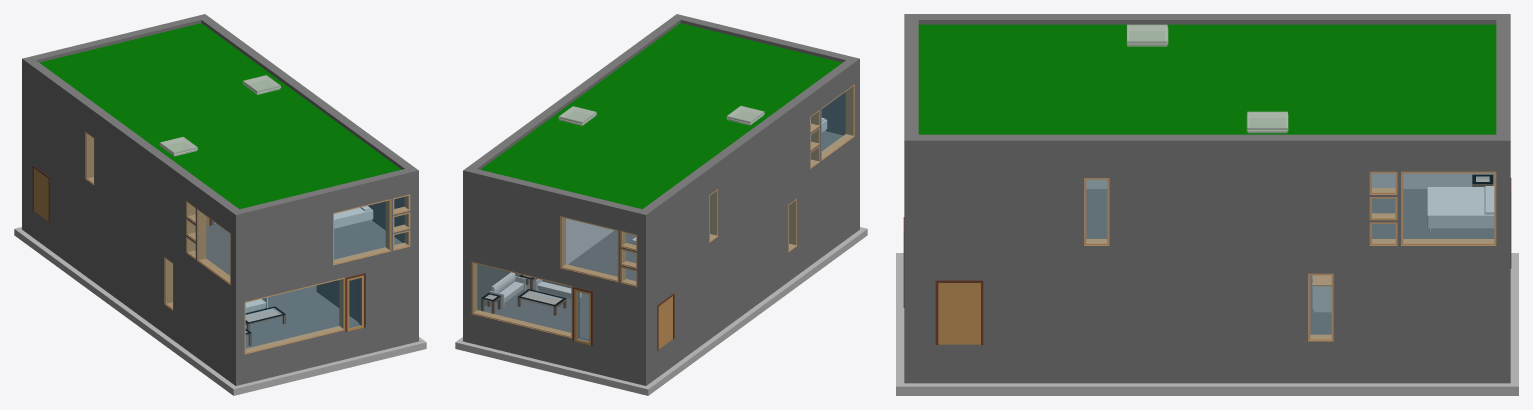
File: Duplex.dae
3 views of the same model, side by side, from view 1: azimuth 30°, elevation 25°; view 2: azimuth 150°, elevation 25°; view 3: azimuth 270°, elevation 25° (orthographic). The views are drawn at different scales.
Visible parts, largest first — view 1: 22427_BasicRoofLiveRoofoverWoodJoistFlatRoof184483, 4046_BasicWallExteriorBrickonBlock138310, 5547_BasicWallExteriorBrickonBlock143590, 5497_BasicWallExteriorBrickonBlock143534, 4002_BasicWallExteriorBrickonBlock138237, 4871_BasicWallFoundationConcrete417mm140602, 6476_M_Fixed4835mmx2420mm4835mmx2420mm146016, 4821_BasicWallFoundationConcrete417mm140554, 22730_BasicWallExteriorBrickonBlock185101, 21336_FloorFinishFloorWood170352, 22685_BasicWallExteriorBrickonBlock185064, 7740_M_Fixed2800mmx2410mm2800mmx2410mm149278 (+18 smaller); view 2: 22427_BasicRoofLiveRoofoverWoodJoistFlatRoof184483, 4046_BasicWallExteriorBrickonBlock138310, 5547_BasicWallExteriorBrickonBlock143590, 5397_BasicWallExteriorBrickonBlock143410, 3758_BasicWallExteriorBrickonBlock138062, 4871_BasicWallFoundationConcrete417mm140602, 6371_M_Fixed4835mmx2420mm4835mmx2420mm145788, 4598_BasicWallFoundationConcrete417mm140479, 22730_BasicWallExteriorBrickonBlock185101, 22595_BasicWallExteriorBrickonBlock184944, 7135_M_Fixed2800mmx2410mm2800mmx2410mm147686, 23338_WallFoundationBearingFooting900x300186612 (+18 smaller); view 3: 22427_BasicRoofLiveRoofoverWoodJoistFlatRoof184483, 3958_BasicWallExteriorBrickonBlock138157, 5447_BasicWallExteriorBrickonBlock143478, 4771_BasicWallFoundationConcrete417mm140520, 22640_BasicWallExteriorBrickonBlock185014, 23218_WallFoundationBearingFooting900x300186596, 22123_M_Fixed2800mmx2410mm2800mmx2410mm181096, 22730_BasicWallExteriorBrickonBlock185101, 6597_M_SingleFlush1250mmx2010mm1250mmx2010mm146596, 20596_M_BedStandard1981x2032mmKing1981x2032mmKing168717, 20840_FloorFinishFloorWood169188, 22595_BasicWallExteriorBrickonBlock184944 (+16 smaller).
Boxes of the visible parts, left/top/right/bottom form: 22427_BasicRoofLiveRoofoverWoodJoistFlatRoof184483: left=39, top=23, right=401, bottom=209; 4046_BasicWallExteriorBrickonBlock138310: left=27, top=139, right=230, bottom=354; 5547_BasicWallExteriorBrickonBlock143590: left=22, top=72, right=235, bottom=291; 5497_BasicWallExteriorBrickonBlock143534: left=236, top=183, right=418, bottom=291; 4002_BasicWallExteriorBrickonBlock138237: left=231, top=249, right=410, bottom=358; 4871_BasicWallFoundationConcrete417mm140602: left=27, top=206, right=230, bottom=382; 6476_M_Fixed4835mmx2420mm4835mmx2420mm146016: left=244, top=277, right=344, bottom=354; 4821_BasicWallFoundationConcrete417mm140554: left=231, top=316, right=410, bottom=385; 22730_BasicWallExteriorBrickonBlock185101: left=27, top=60, right=238, bottom=224; 21336_FloorFinishFloorWood170352: left=245, top=285, right=358, bottom=348; 22685_BasicWallExteriorBrickonBlock185064: left=231, top=169, right=410, bottom=228; 7740_M_Fixed2800mmx2410mm2800mmx2410mm149278: left=333, top=199, right=391, bottom=265; 22427_BasicRoofLiveRoofoverWoodJoistFlatRoof184483: left=480, top=23, right=842, bottom=209; 4046_BasicWallExteriorBrickonBlock138310: left=651, top=139, right=854, bottom=354; 5547_BasicWallExteriorBrickonBlock143590: left=646, top=72, right=859, bottom=291; 5397_BasicWallExteriorBrickonBlock143410: left=463, top=183, right=645, bottom=291; 3758_BasicWallExteriorBrickonBlock138062: left=463, top=247, right=650, bottom=358; 4871_BasicWallFoundationConcrete417mm140602: left=651, top=206, right=854, bottom=382; 6371_M_Fixed4835mmx2420mm4835mmx2420mm145788: left=471, top=261, right=572, bottom=338; 4598_BasicWallFoundationConcrete417mm140479: left=463, top=314, right=650, bottom=385; 22730_BasicWallExteriorBrickonBlock185101: left=643, top=60, right=854, bottom=224; 22595_BasicWallExteriorBrickonBlock184944: left=463, top=167, right=650, bottom=228; 7135_M_Fixed2800mmx2410mm2800mmx2410mm147686: left=560, top=216, right=618, bottom=282; 23338_WallFoundationBearingFooting900x300186612: left=629, top=235, right=856, bottom=395; 22427_BasicRoofLiveRoofoverWoodJoistFlatRoof184483: left=918, top=24, right=1496, bottom=134; 3958_BasicWallExteriorBrickonBlock138157: left=904, top=249, right=1496, bottom=344; 5447_BasicWallExteriorBrickonBlock143478: left=904, top=159, right=1510, bottom=248; 4771_BasicWallFoundationConcrete417mm140520: left=904, top=344, right=1496, bottom=383; 22640_BasicWallExteriorBrickonBlock185014: left=904, top=134, right=1496, bottom=159; 23218_WallFoundationBearingFooting900x300186596: left=896, top=373, right=1518, bottom=395; 22123_M_Fixed2800mmx2410mm2800mmx2410mm181096: left=1401, top=171, right=1496, bottom=245; 22730_BasicWallExteriorBrickonBlock185101: left=918, top=14, right=1496, bottom=24; 6597_M_SingleFlush1250mmx2010mm1250mmx2010mm146596: left=935, top=280, right=983, bottom=344; 20596_M_BedStandard1981x2032mmKing1981x2032mmKing168717: left=1427, top=186, right=1494, bottom=231; 20840_FloorFinishFloorWood169188: left=1372, top=189, right=1494, bottom=238; 22595_BasicWallExteriorBrickonBlock184944: left=1496, top=14, right=1510, bottom=159.
Size of the model in its own units: 9.28 by 18.28 by 8.18.
